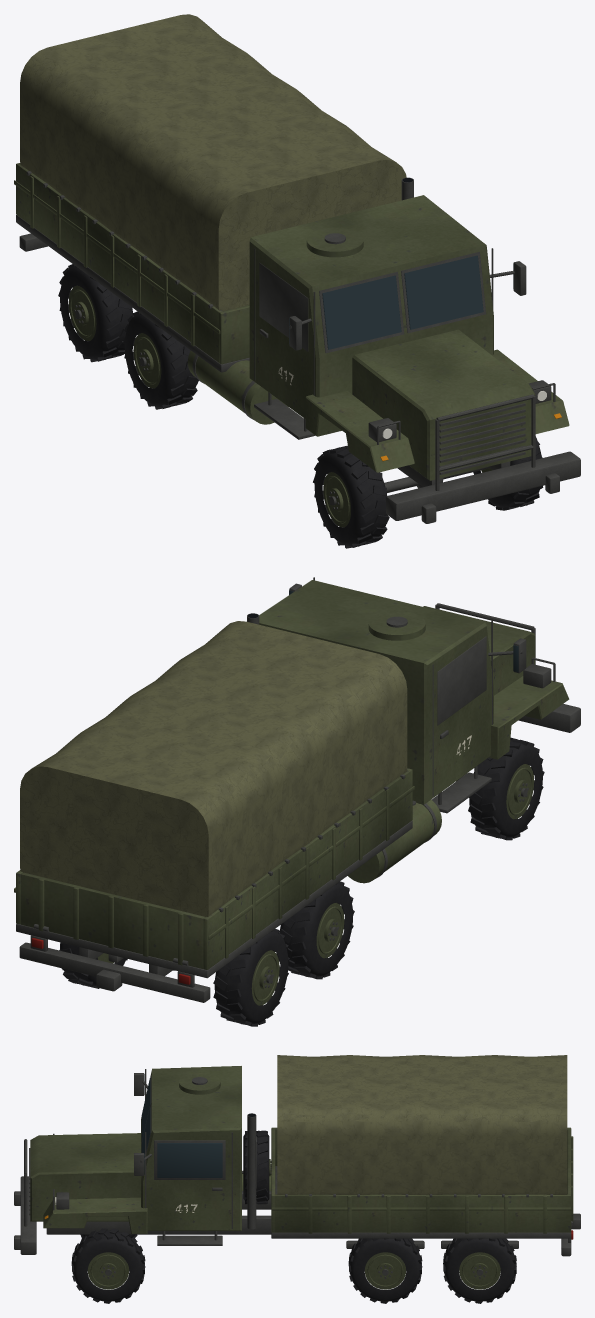
Rendered from cargo-truck-6x6.glb.
3 views of the same model, one above another, from view 1: azimuth 30°, elevation 25°; view 2: azimuth 150°, elevation 25°; view 3: azimuth 270°, elevation 25° (orthographic). The views are drawn at different scales.
Visible parts, largest first — view 1: Truck, Wheel_FR, Wheel_MR, Wheel_BR, Wheel_FL; view 2: Truck, Wheel_FR, Wheel_BR, Wheel_MR, Wheel_BL; view 3: Truck, Wheel_FL, Wheel_BL, Wheel_ML.
Part boxes in pixels (box(x1,y1,x2,y2)): Truck: box(14, 14, 580, 523); Wheel_FR: box(313, 445, 389, 548); Wheel_MR: box(123, 311, 198, 409); Wheel_BR: box(58, 264, 133, 362); Wheel_FL: box(473, 436, 543, 510); Truck: box(14, 577, 580, 1002); Wheel_FR: box(468, 737, 544, 840); Wheel_BR: box(213, 929, 289, 1026); Wheel_MR: box(279, 881, 354, 979); Wheel_BL: box(59, 942, 127, 988); Truck: box(14, 1055, 580, 1256); Wheel_FL: box(71, 1228, 145, 1303); Wheel_BL: box(443, 1238, 516, 1303); Wheel_ML: box(348, 1238, 422, 1303).
Bounding box in the file's own units: 3.02 × 3.24 × 8.7.
10 materials, 5 textured.
